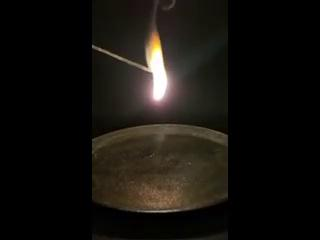Fire: (144, 16, 170, 101)
